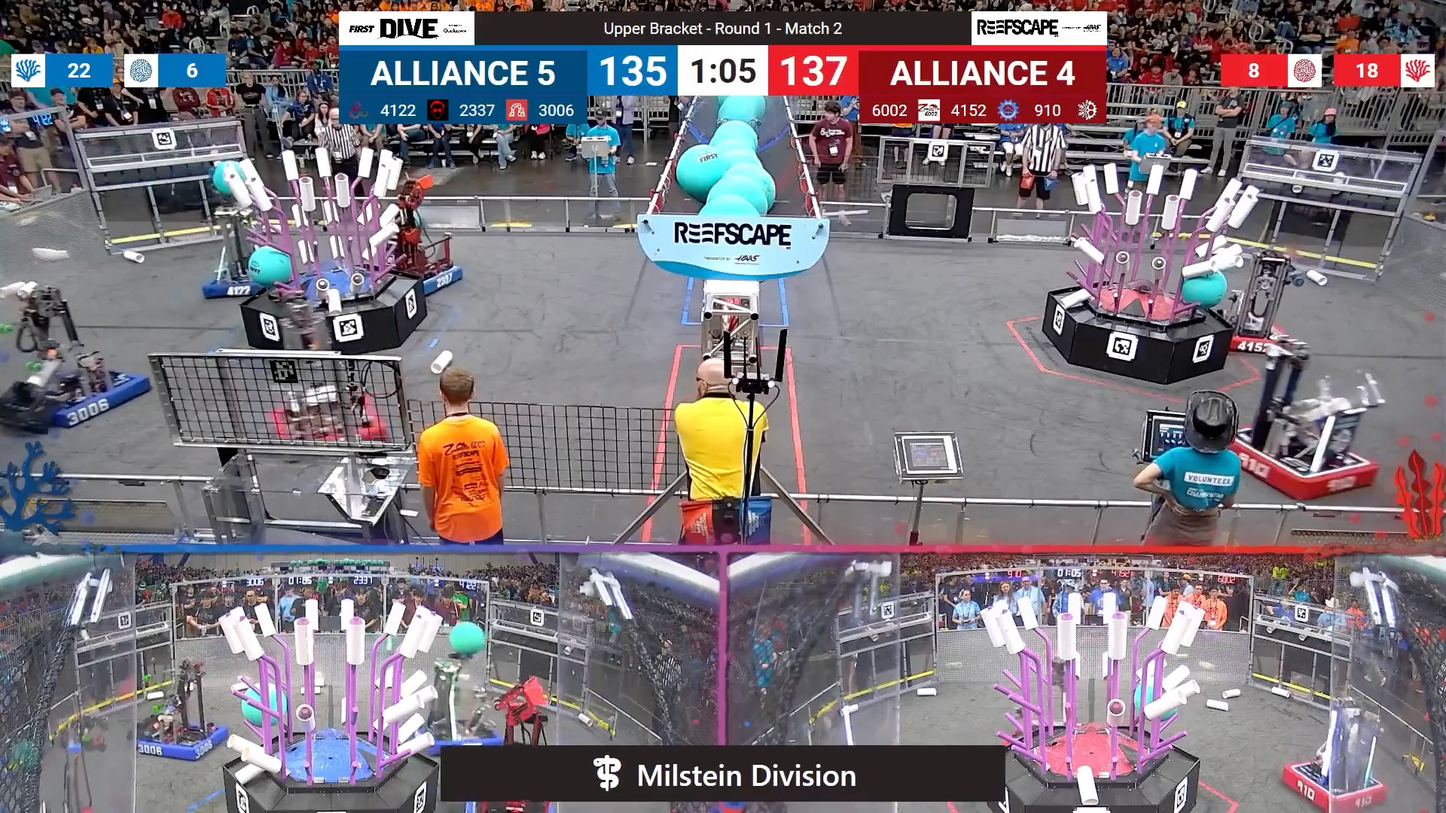bumpers: (3, 363, 157, 434), (1225, 434, 1381, 502), (264, 382, 390, 451), (1272, 758, 1395, 811), (128, 717, 234, 766), (1219, 316, 1309, 359), (389, 258, 470, 295), (198, 268, 276, 300)
